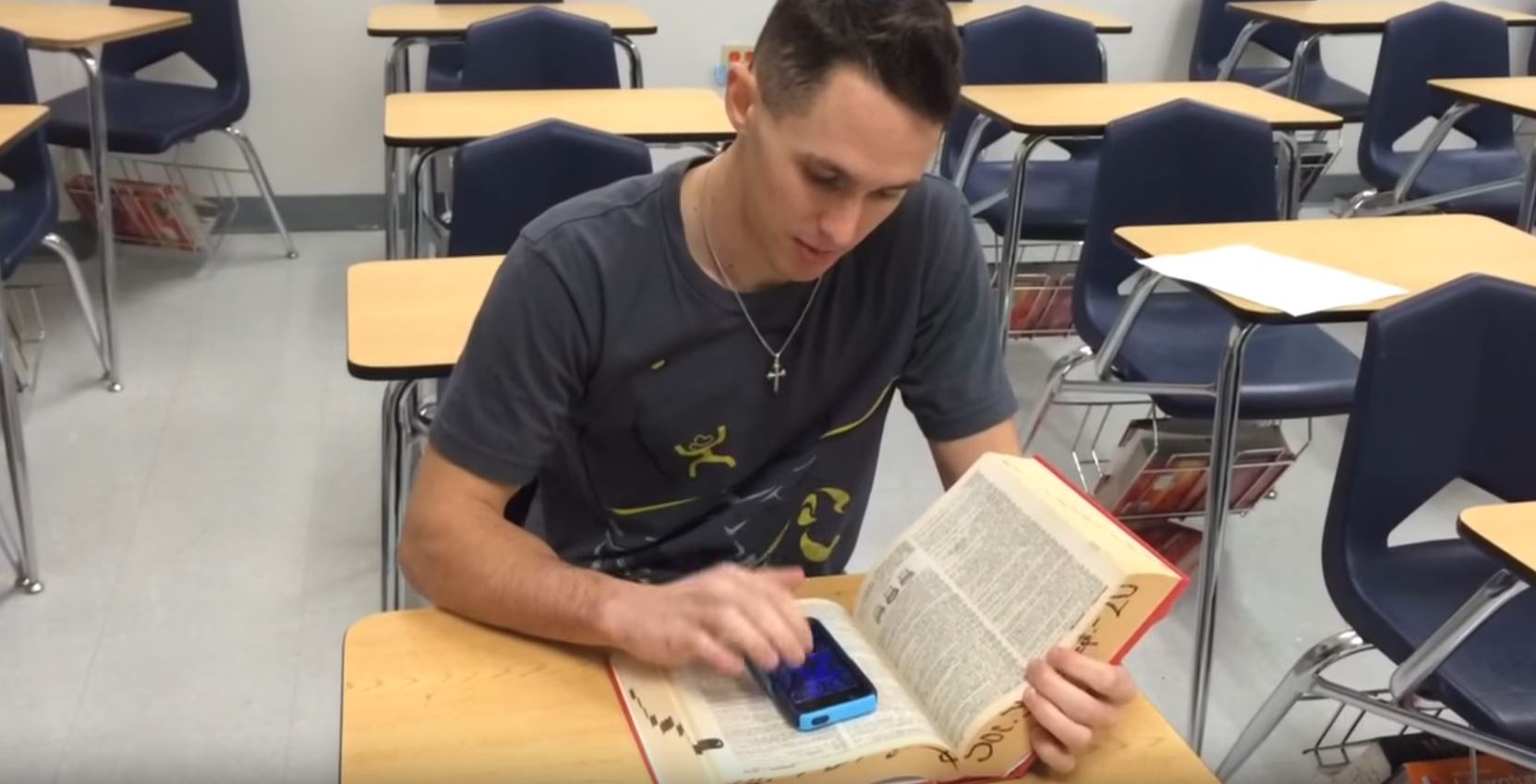phone: (766, 610, 877, 727)
